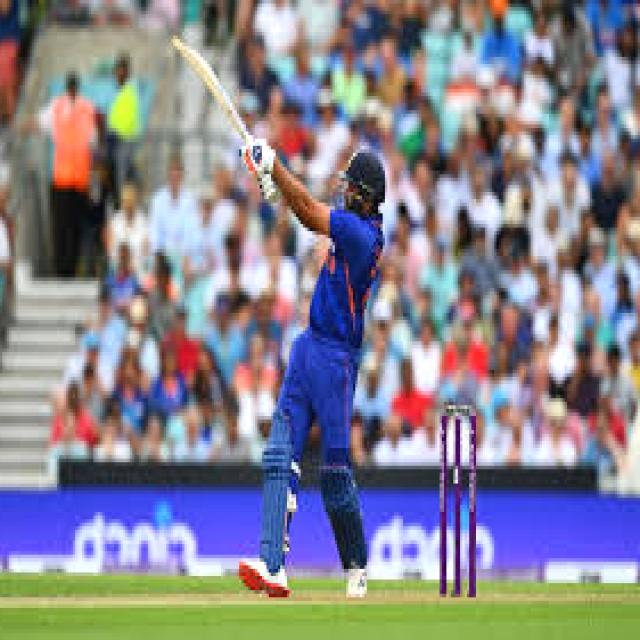toe: (174, 38, 193, 59)
